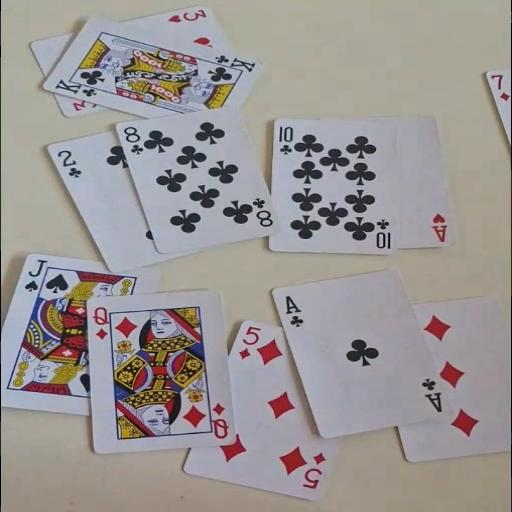10: (374, 217, 392, 249), (276, 125, 294, 155)
2: (54, 148, 82, 178)
3: (164, 7, 208, 24)
5: (299, 450, 328, 491), (236, 324, 264, 360)
7: (488, 72, 510, 102)
8: (250, 196, 274, 228), (120, 124, 144, 155)
A: (420, 376, 445, 413), (283, 294, 306, 328), (429, 211, 449, 243)
J: (21, 257, 49, 293)
K: (52, 77, 100, 98)
Q: (208, 400, 230, 440), (91, 305, 110, 341)
